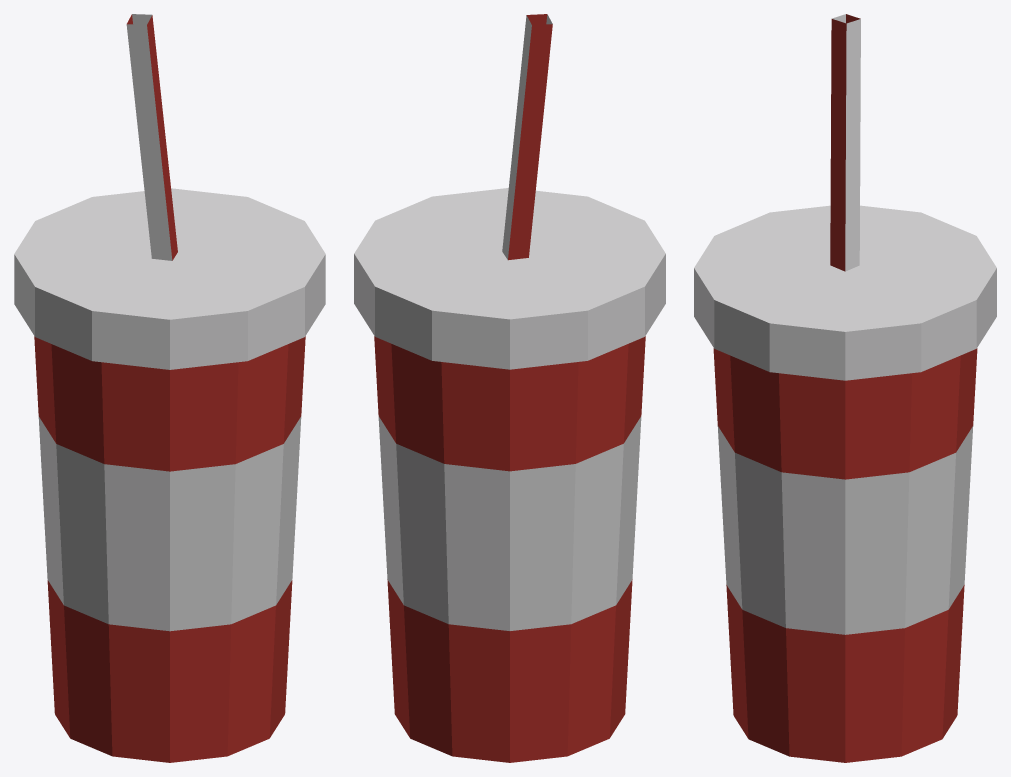
Rendered from SM_foodSoda.glb.
3 views of the same model, side by side, from view 1: azimuth 30°, elevation 25°; view 2: azimuth 150°, elevation 25°; view 3: azimuth 270°, elevation 25° (orthographic). The views are drawn at different scales.
Parts seen in each view (by area): view 1: SM_foodSoda; view 2: SM_foodSoda; view 3: SM_foodSoda.
Part boxes in pixels (x1,y1,x2,y2): SM_foodSoda: (14, 14, 325, 762); SM_foodSoda: (354, 14, 665, 762); SM_foodSoda: (694, 14, 996, 762).
Bounding box in the file's own units: 0.1429 × 0.3561 × 0.1429.
1 material, 1 textured.
